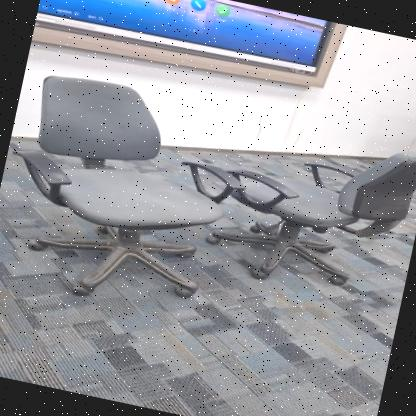chair: (0, 53, 262, 324), (194, 98, 416, 314)
